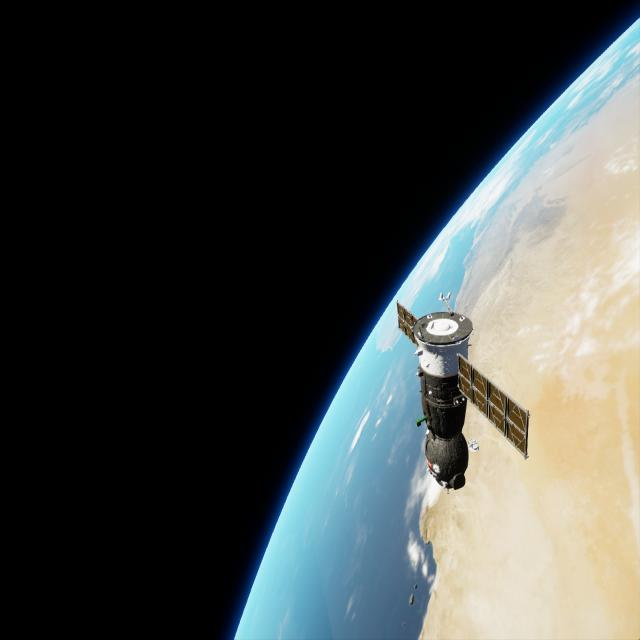Satellites revolving around earth: (232, 17, 638, 638), (394, 289, 532, 495)
